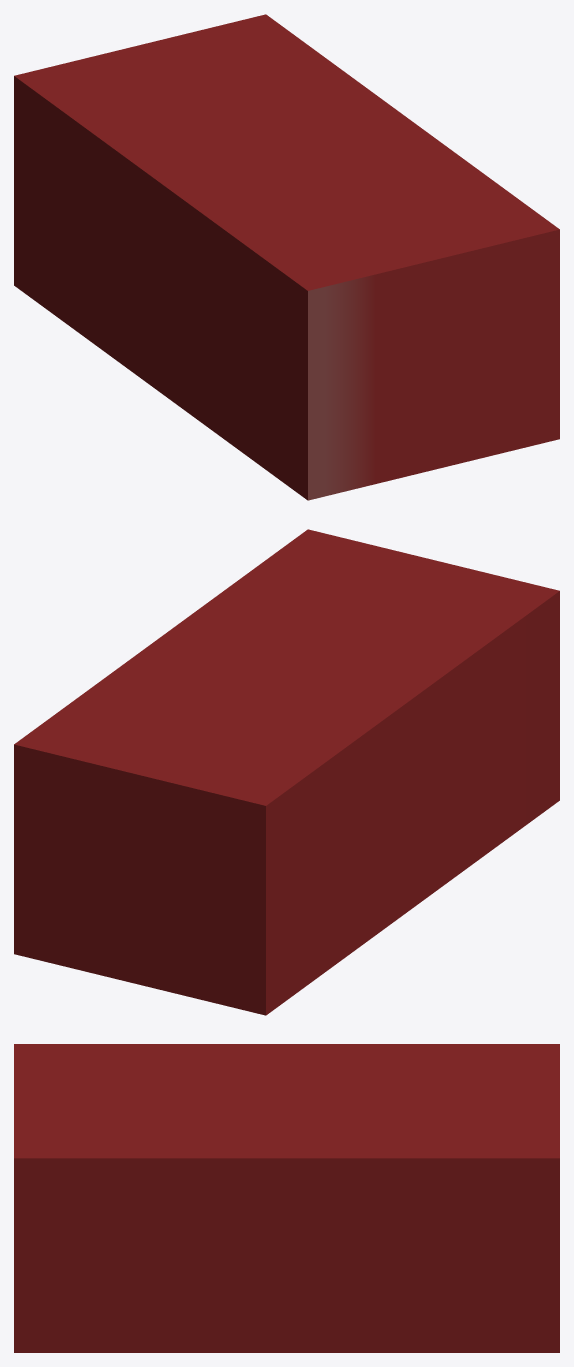
The model's file is mdlFireExtinguisher.fbx.
3 renders of one model, top to bottom at view 1: azimuth 30°, elevation 25°; view 2: azimuth 150°, elevation 25°; view 3: azimuth 270°, elevation 25°, orthographic. The views are drawn at different scales.
Parts seen in each view (by area): view 1: Cube; view 2: Cube; view 3: Cube.
Part boxes in pixels (bbox=[...]): Cube: bbox=[14, 14, 559, 500]; Cube: bbox=[14, 529, 559, 1015]; Cube: bbox=[14, 1044, 559, 1352].
Size of the model in its own units: 66.44 by 53.41 by 134.
Materials: 1 (1 with a texture image).
